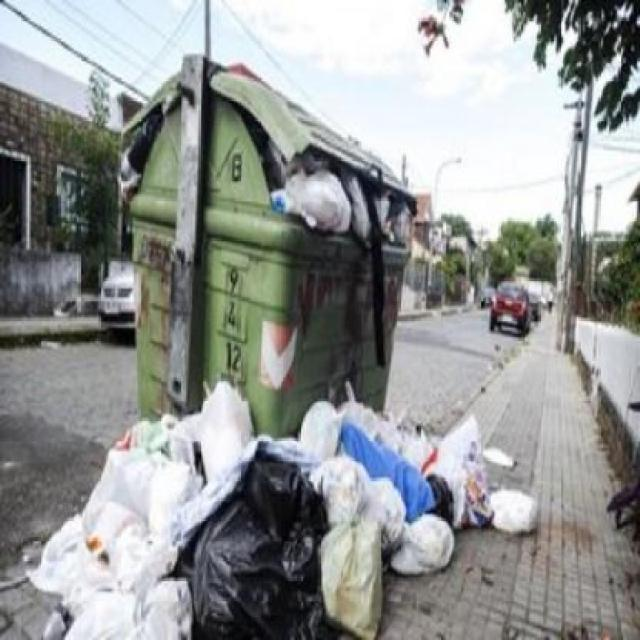garbage: (46, 428, 544, 639), (267, 150, 426, 269)
